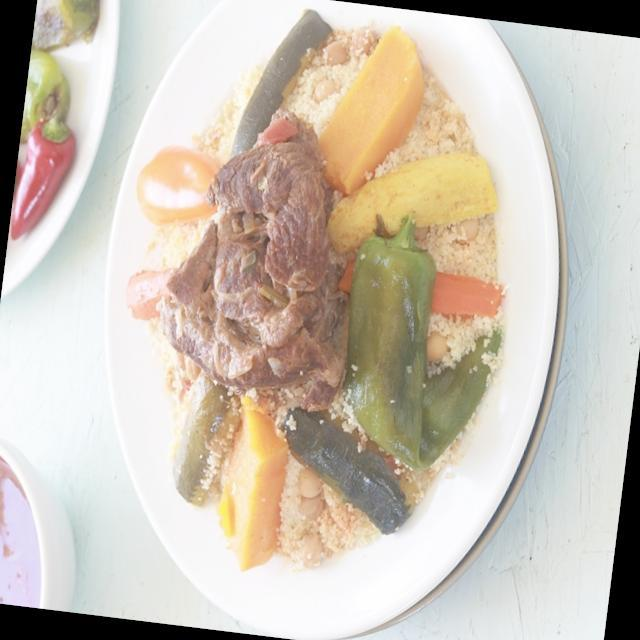Couscous: (63, 0, 594, 640)
